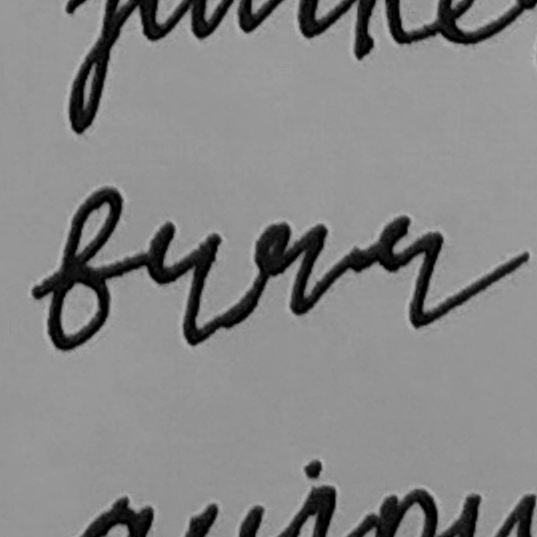b: (32, 182, 134, 355)
r: (138, 216, 228, 349), (361, 210, 453, 333), (243, 216, 334, 323)
